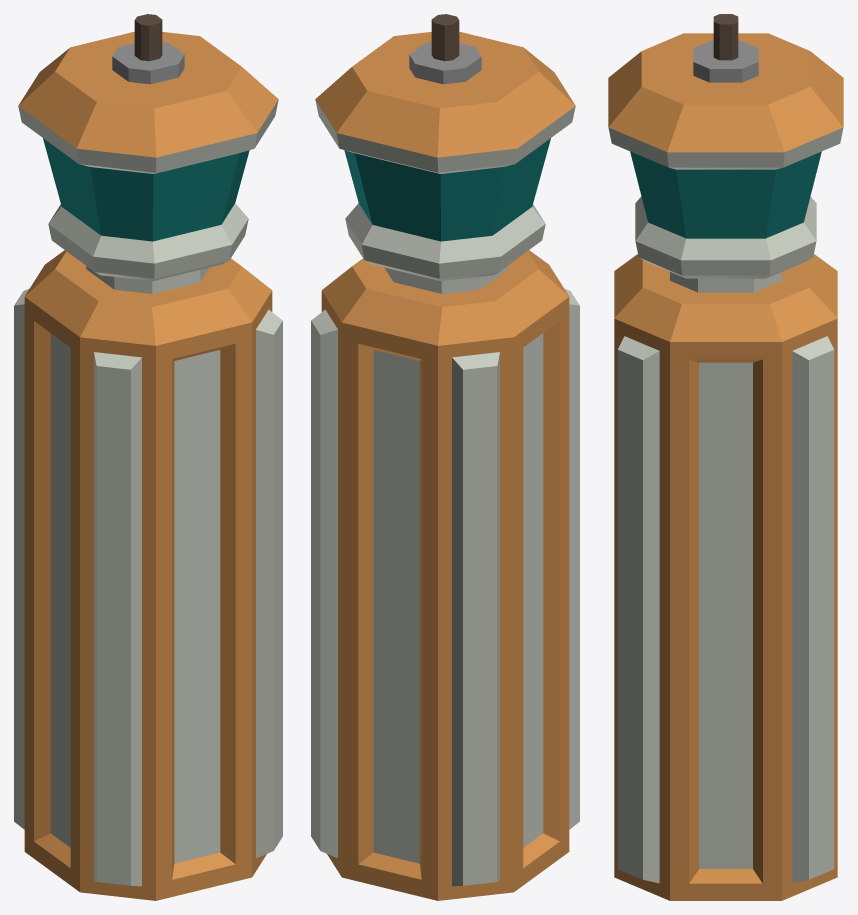
The model's file is SM_pillar.fbx.
3 renders of one model, left to right at view 1: azimuth 30°, elevation 25°; view 2: azimuth 150°, elevation 25°; view 3: azimuth 270°, elevation 25°, orthographic.
Parts seen in each view (by area): view 1: SM_pillar; view 2: SM_pillar; view 3: SM_pillar.
Part boxes in pixels (x1,y1,x2,y2): SM_pillar: [14, 14, 282, 900]; SM_pillar: [311, 14, 579, 900]; SM_pillar: [608, 14, 843, 900].
Size of the model in its own units: 98.65 by 386 by 98.65.
